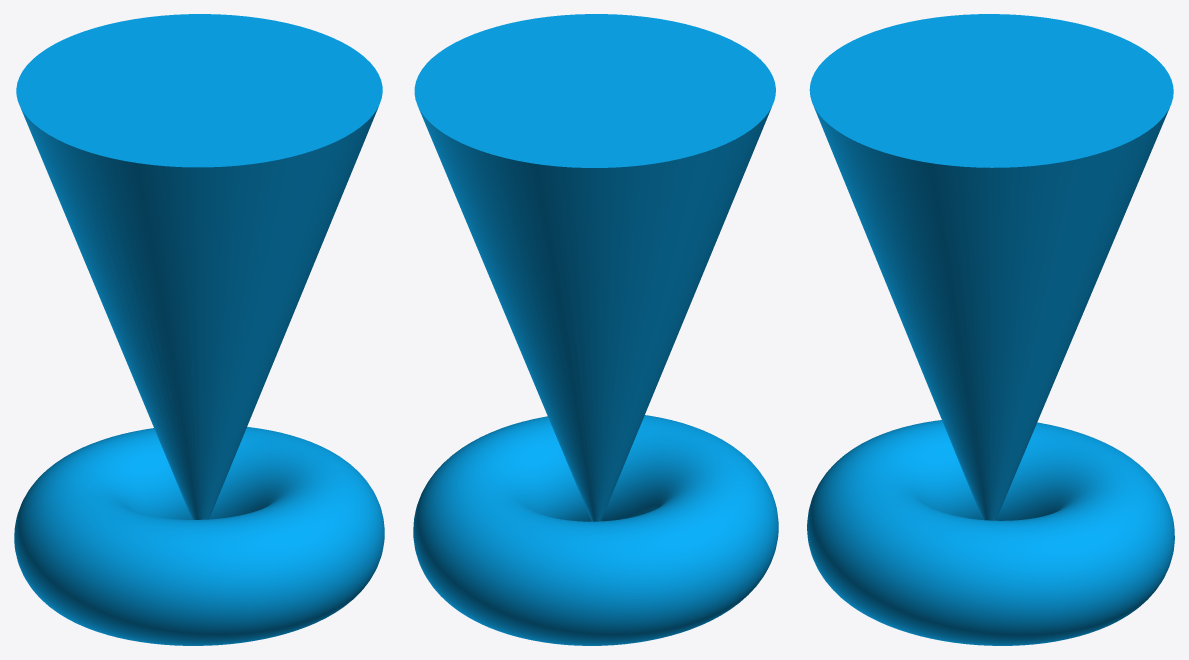
Rendered from Marqueur.fbx.
3 renders of one model, left to right at view 1: azimuth 30°, elevation 25°; view 2: azimuth 150°, elevation 25°; view 3: azimuth 270°, elevation 25°, orthographic.
Parts seen in each view (by area): view 1: node_id30, node_id32; view 2: node_id30, node_id32; view 3: node_id30, node_id32.
Boxes of the visible parts, x1,y1,x2,y2 form: node_id30: [16, 14, 382, 519]; node_id32: [14, 427, 384, 645]; node_id30: [414, 14, 775, 521]; node_id32: [413, 415, 778, 645]; node_id30: [809, 14, 1173, 520]; node_id32: [807, 420, 1174, 645].
Bounding box in the file's own units: 0.3381 × 0.5097 × 0.3378.
2 materials, 2 textured.
